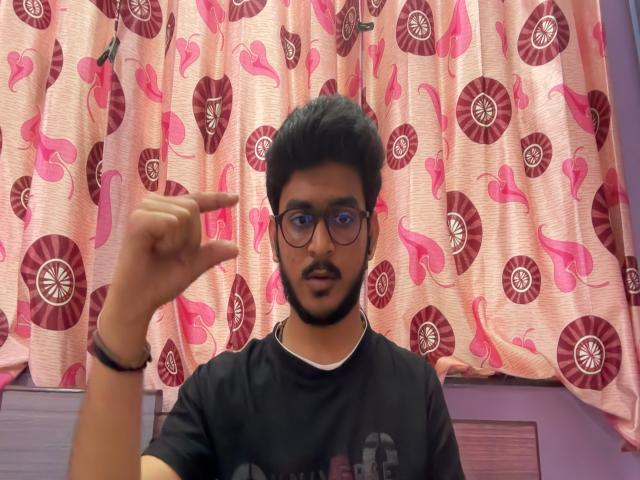No: (93, 181, 250, 356)
